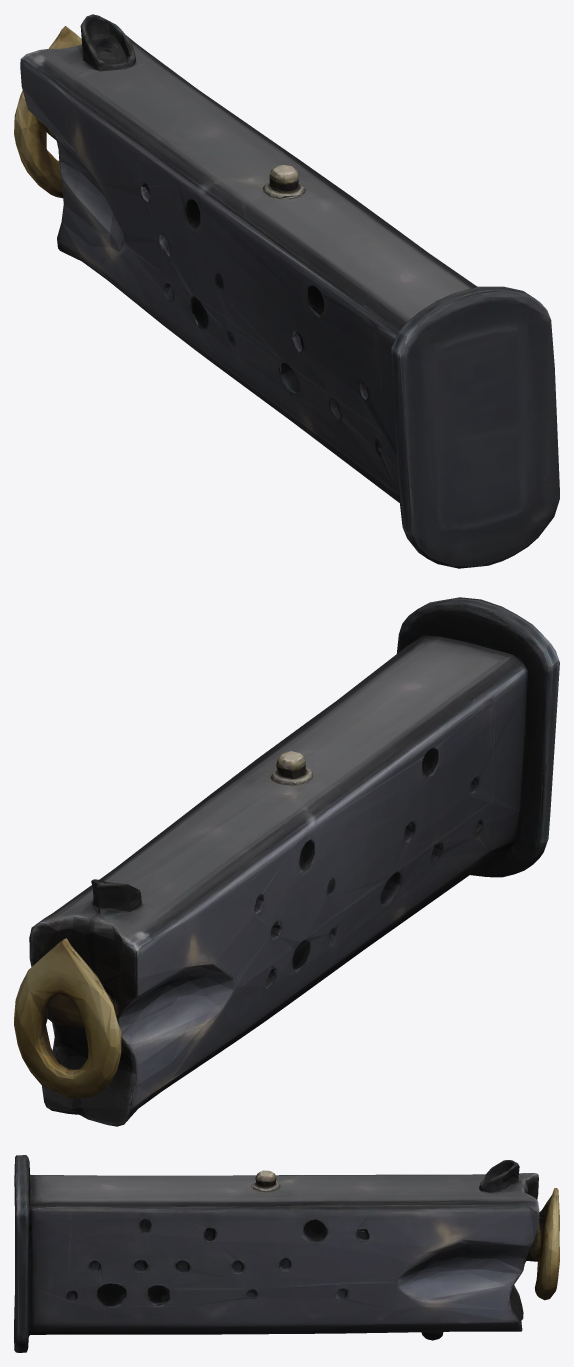
File: ppk_magazine.glb
3 views of the same model, one above another, from view 1: azimuth 30°, elevation 25°; view 2: azimuth 150°, elevation 25°; view 3: azimuth 270°, elevation 25° (orthographic). The views are drawn at different scales.
Visible parts, largest first — view 1: geometry_0; view 2: geometry_0; view 3: geometry_0.
Boxes of the visible parts, x1,y1,x2,y2 form: geometry_0: [14, 14, 559, 568]; geometry_0: [14, 597, 559, 1126]; geometry_0: [14, 1155, 559, 1352].
Size of the model in its own units: 0.2246 by 0.3607 by 0.9994.
1 material, 1 textured.
